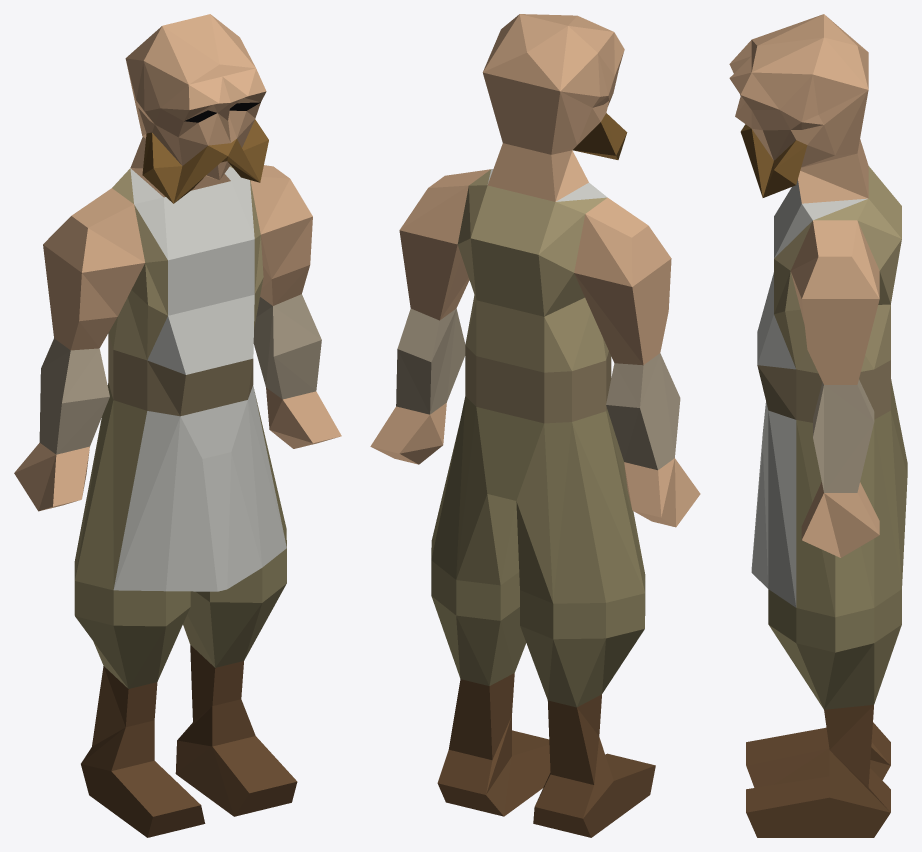
Rendered from ore-merchants.gltf.
3 views of the same model, side by side, from view 1: azimuth 30°, elevation 25°; view 2: azimuth 150°, elevation 25°; view 3: azimuth 270°, elevation 25° (orthographic).
Bounding box in the file's own units: 60 × 154 × 32.
1 material, 1 textured.
